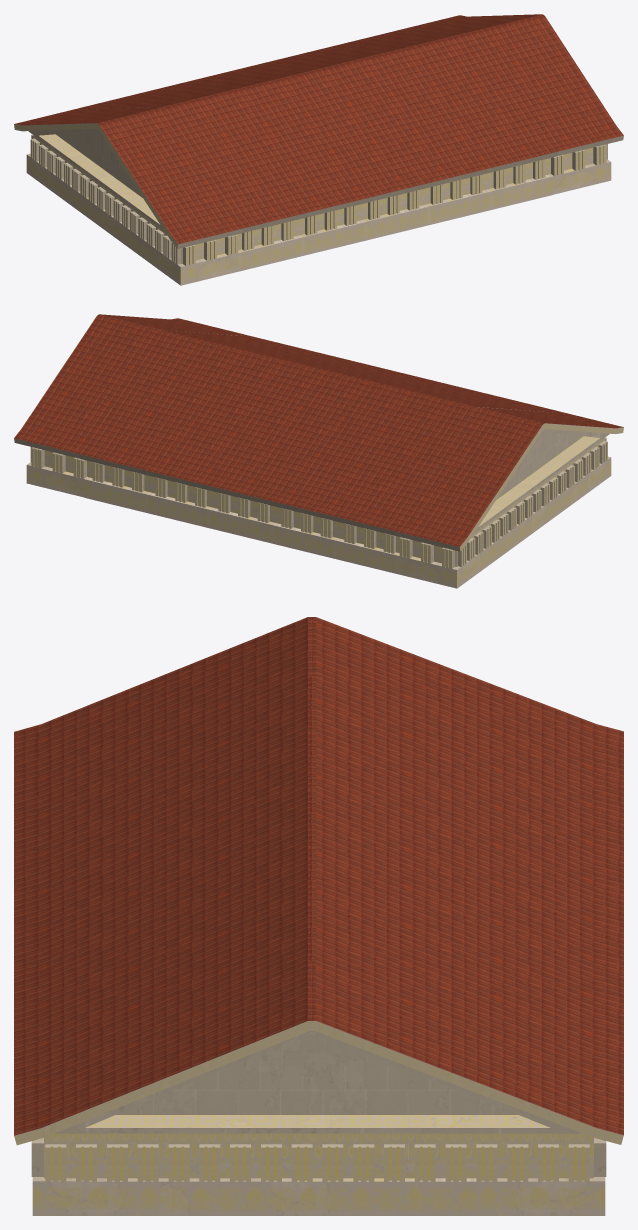
Rendered from SM_temple_roof_prefab_02.glb.
3 renders of one model, top to bottom at view 1: azimuth 30°, elevation 25°; view 2: azimuth 150°, elevation 25°; view 3: azimuth 270°, elevation 25°, orthographic. The views are drawn at different scales.
Visible parts, largest first — view 1: SM_temple_roof_prefab_02; view 2: SM_temple_roof_prefab_02; view 3: SM_temple_roof_prefab_02.
Part boxes in pixels (box(x1,y1,x2,y2)): SM_temple_roof_prefab_02: box(14, 14, 623, 285); SM_temple_roof_prefab_02: box(14, 314, 623, 588); SM_temple_roof_prefab_02: box(14, 617, 623, 1215).
Size of the model in its own units: 40.77 by 9.53 by 26.01.
Materials: 2 (2 with a texture image).
